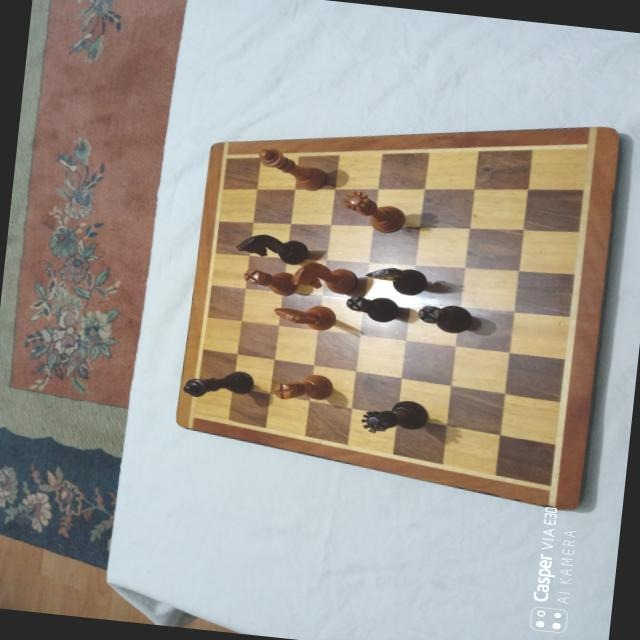black-king: (182, 364, 254, 402)
black-knight: (233, 230, 310, 266), (362, 263, 427, 295)
black-queen: (359, 395, 429, 437)
black-rook: (415, 301, 473, 335), (344, 292, 398, 323)
white-king: (254, 145, 328, 191)
white-knight: (288, 257, 357, 294), (271, 299, 337, 332)
white-queen: (337, 188, 407, 234)
white-rook: (271, 368, 333, 403), (241, 265, 298, 296)
